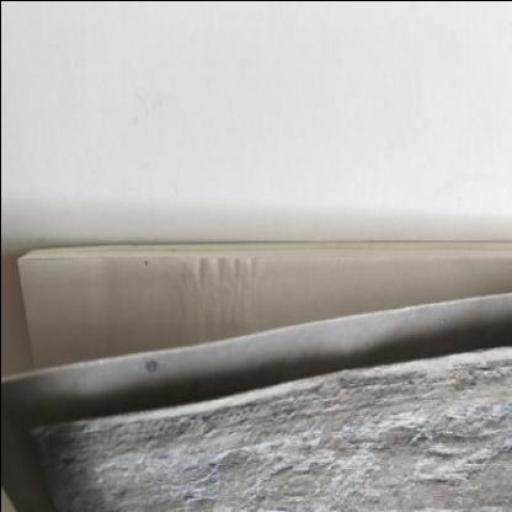cardboard: (17, 239, 511, 512), (1, 289, 511, 512), (31, 342, 511, 511)
